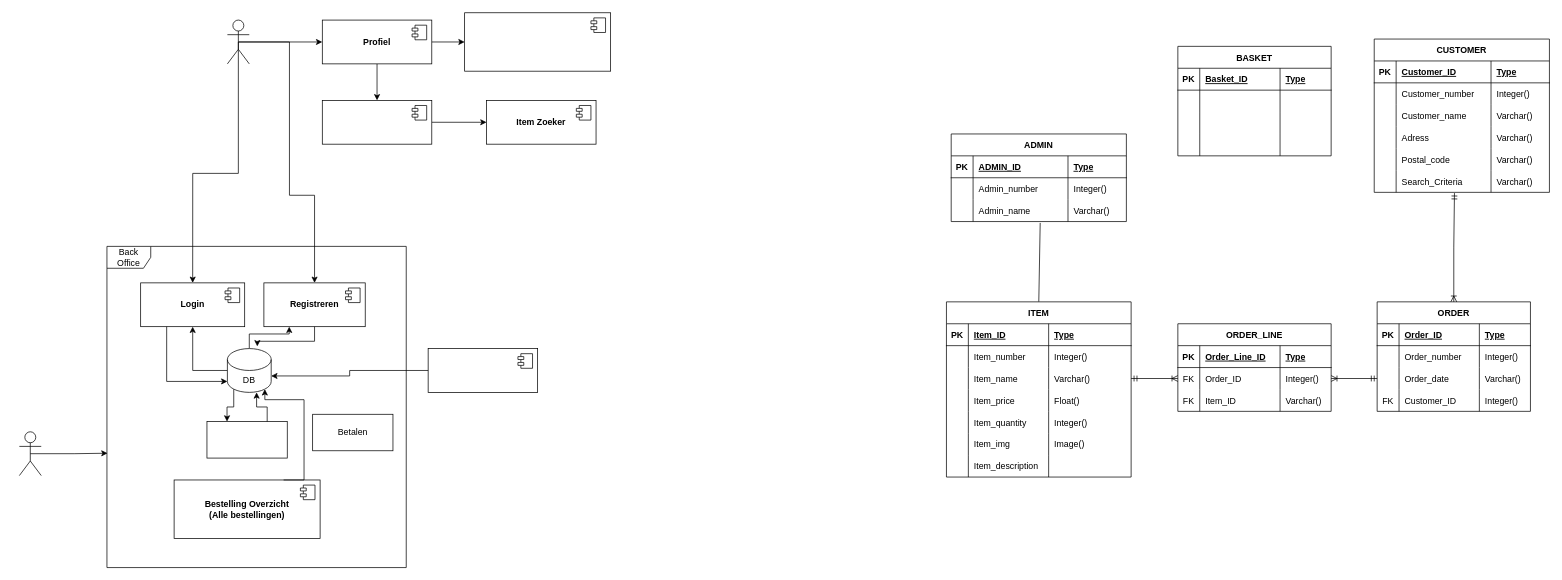
Some shapes in this 1562 by 580 pixel diagram are drawn without their labels. Here are the shapes that lost their labels. From the top down, the centre of each, then its label:
At (x=238, y=41): "Klant".
At (x=537, y=41): "Bestelling Overzicht (gebruiker)".
At (x=377, y=122): "Zoekcriteria".
At (x=482, y=370): "Winkelmand".
At (x=30, y=453): "Eigenaar".
At (x=246, y=439): "Catalogus".
